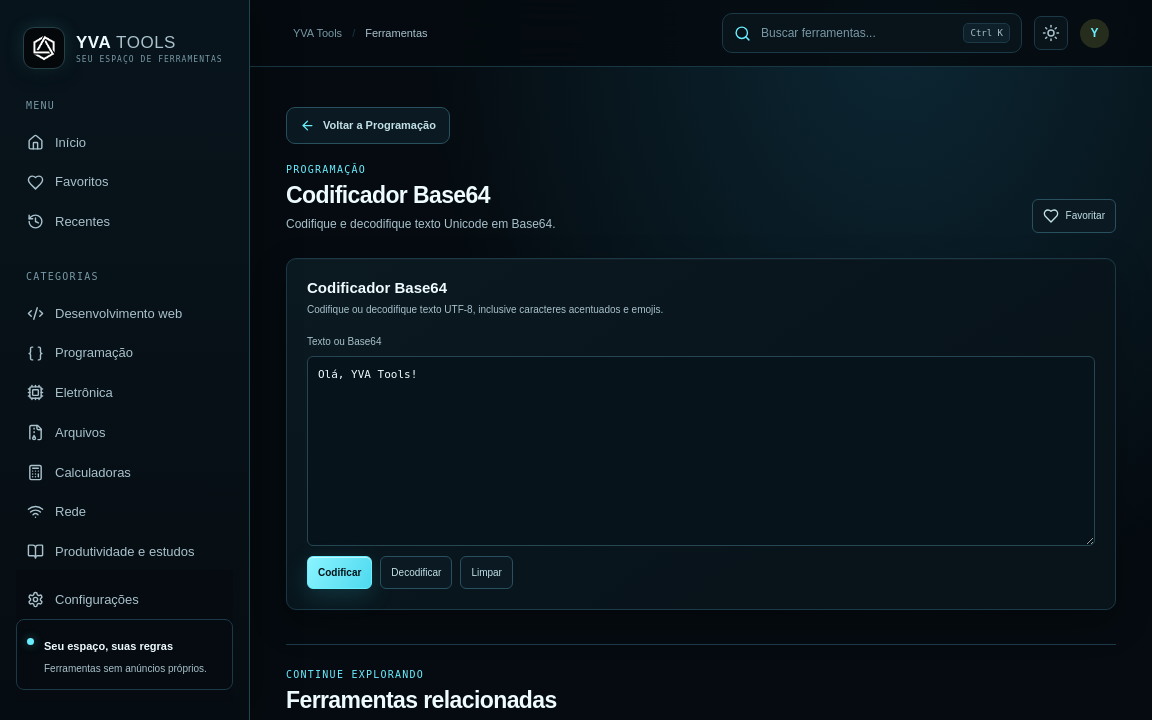
Test: Parte 3: ferramentas prioritárias › codifica e decodifica texto Unicode em Base64
Replace the text in the text box labelled "Texto ou Base64" with "Olá, 🌊!" at (701, 450), box [307, 356, 1095, 546]
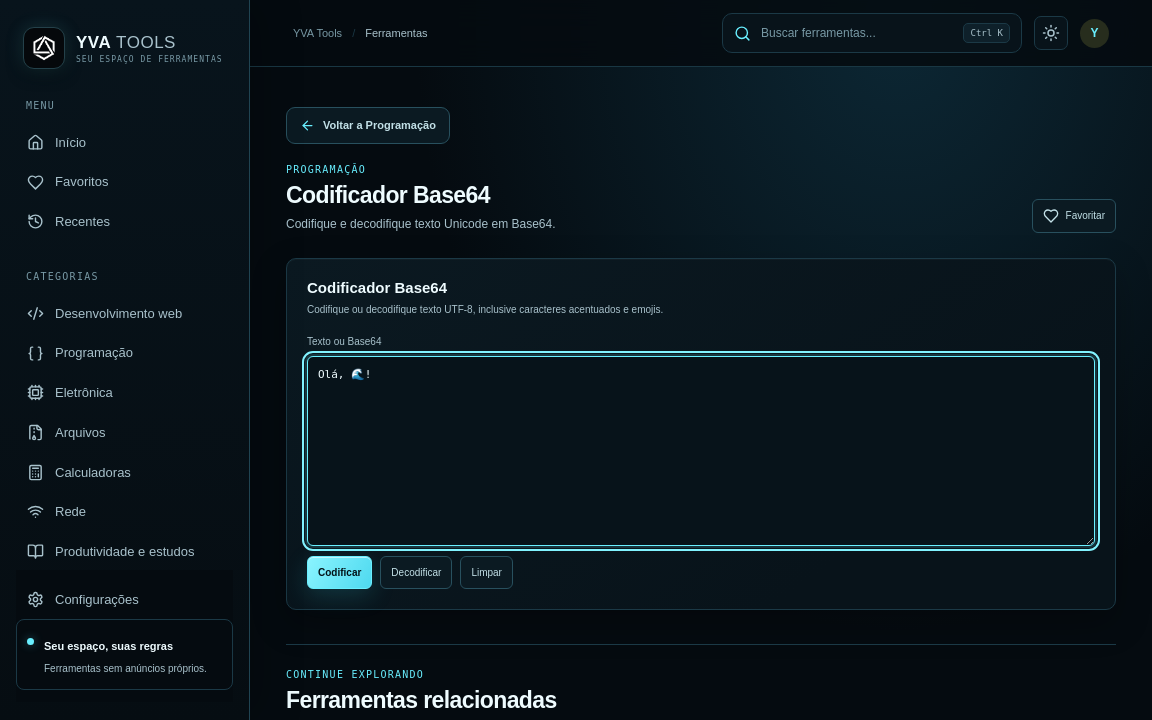
Click the button "Codificar" at (340, 572), box [307, 556, 372, 588]
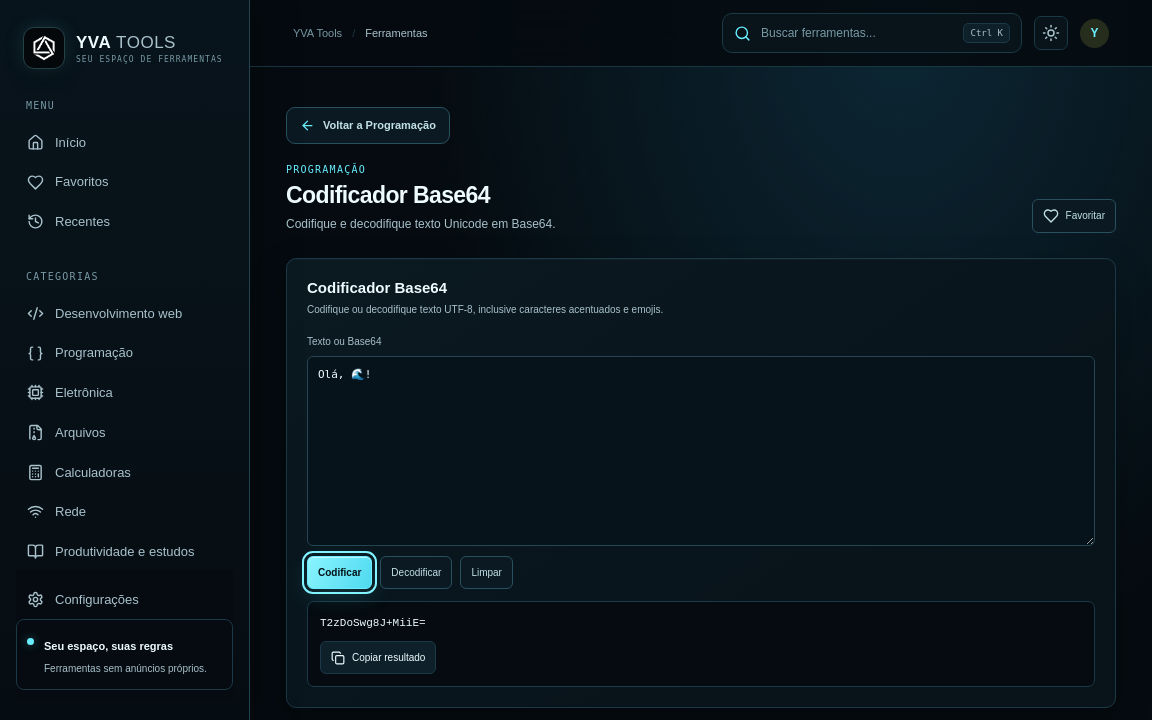
Expected: the text "T2zDoSwg8J+MiiE=" is shown, [320, 616, 426, 628]
Replace the text in the text box labelled "Texto ou Base64" with "T2zDoSwg8J+MiiE=" at (701, 450), box [307, 356, 1095, 546]
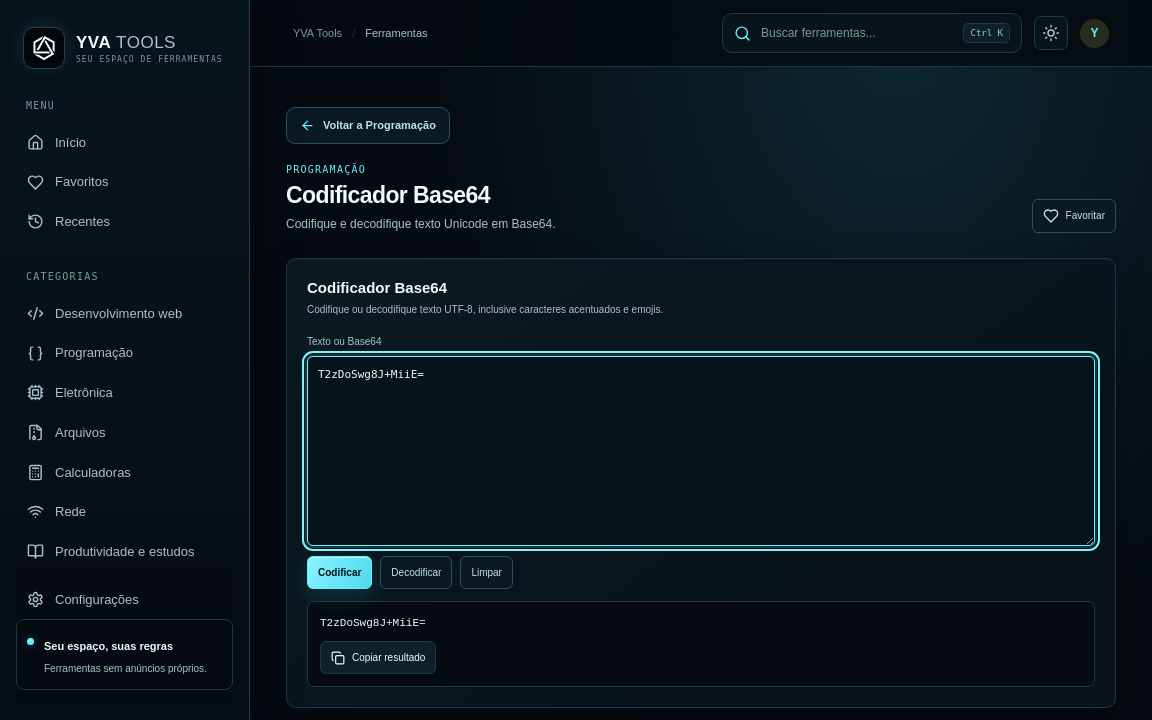
Click the button "Decodificar" at (416, 572), box [380, 556, 452, 588]
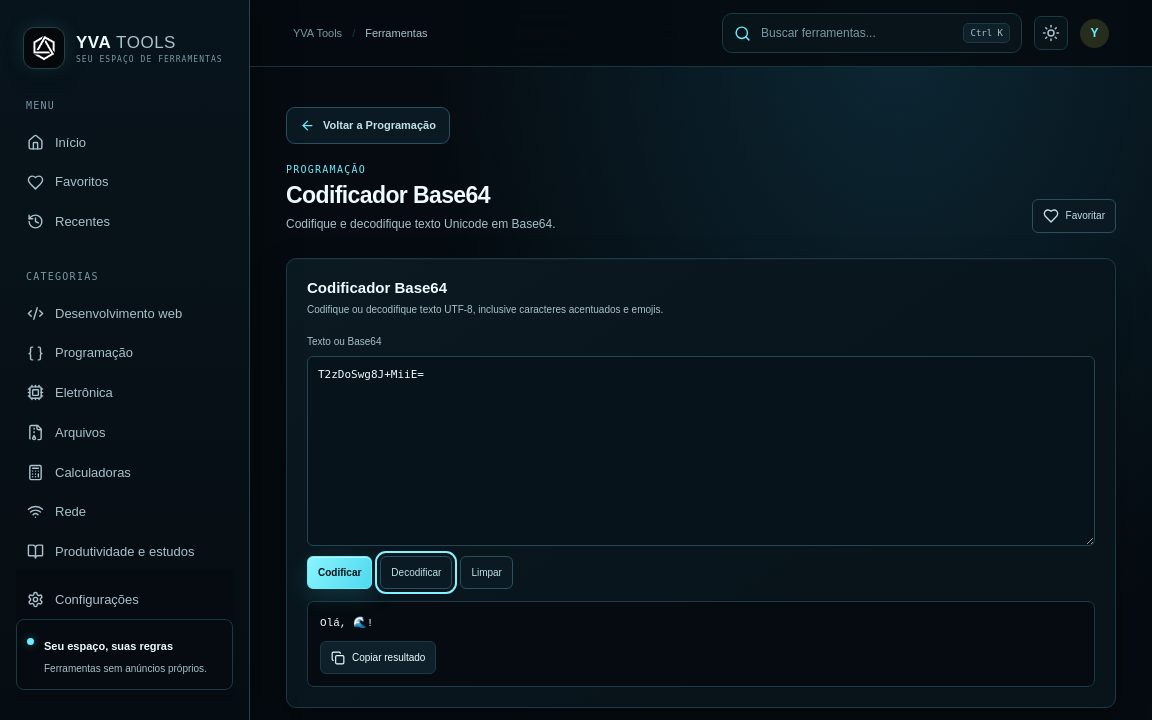
Expected: the text "Olá, 🌊!" is shown, [320, 616, 373, 628]
